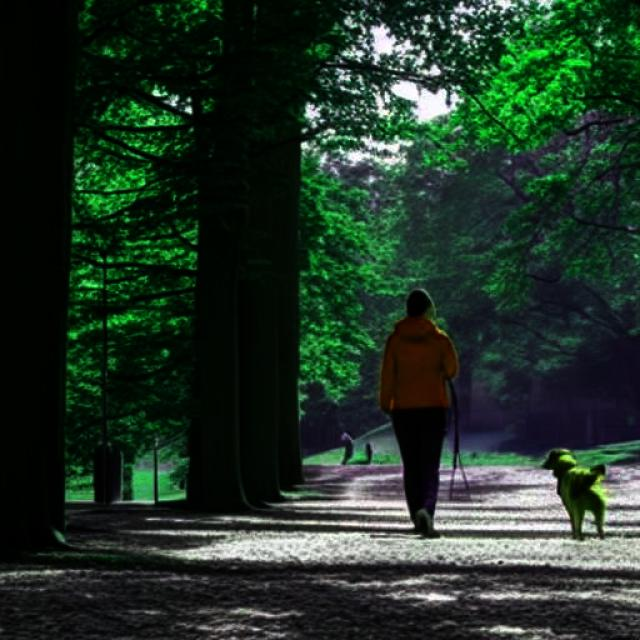Unleashed_Dog: (392, 408, 609, 539)
